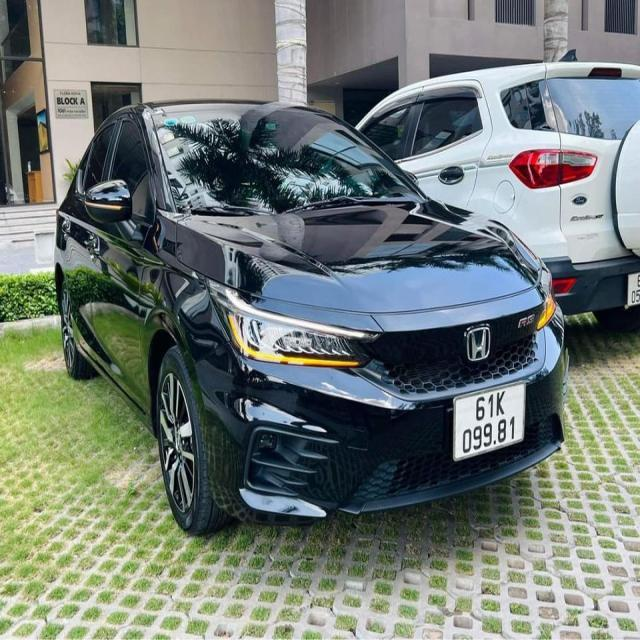car: (51, 98, 588, 531), (341, 62, 640, 326)
plate: (447, 383, 532, 463), (622, 263, 640, 310)
